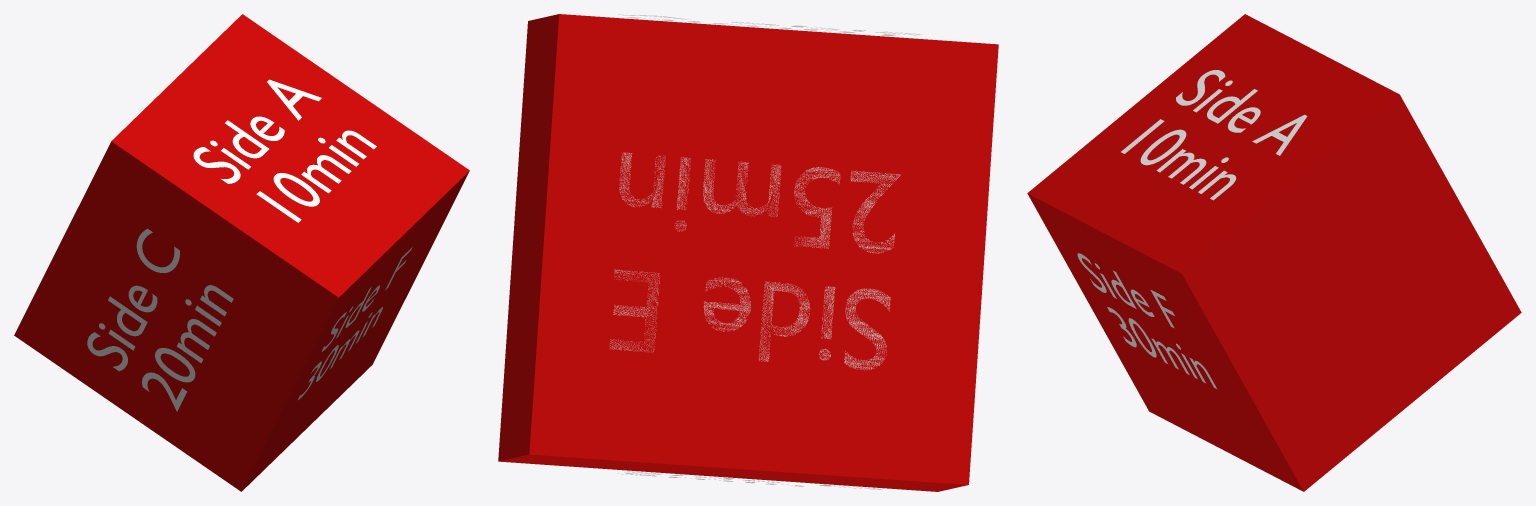
Rendered from tomato-timer.glb.
The picture shows the model from 3 angles, left to right: view 1: azimuth 30°, elevation 25°; view 2: azimuth 150°, elevation 25°; view 3: azimuth 270°, elevation 25°; orthographic projection. The views are drawn at different scales.
Visible parts, largest first — view 1: Cube; view 2: Cube; view 3: Cube.
Part boxes in pixels (x1,y1,x2,y2): Cube: [14, 14, 469, 491]; Cube: [498, 14, 998, 491]; Cube: [1027, 14, 1521, 491].
Bounding box in the file's own units: 3.03 × 2.85 × 3.37.
